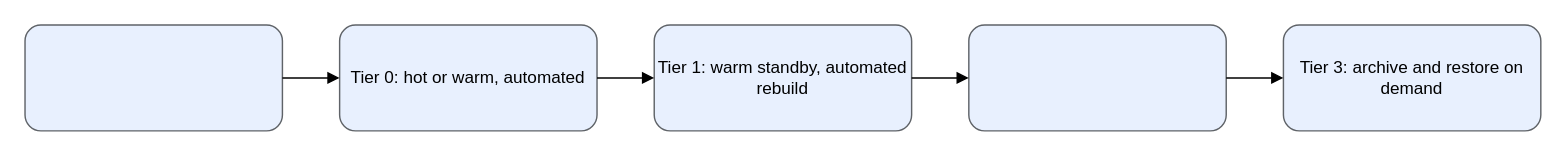
The diagram is 1566 pixels wide and 156 high, and some of its shapes have lost their labels. Each missing label, with the centre of its shape:
Business impact analysis: the point at 153,77
Tier 2: pilot light or cold rebuild: the point at 1096,77
